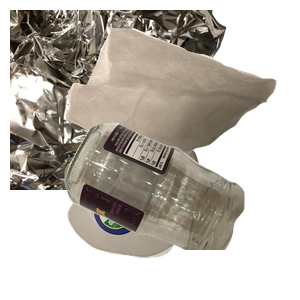glass: (62, 120, 300, 300)
metal: (10, 10, 229, 190)
plastic: (65, 123, 257, 300)
trash: (63, 21, 300, 172)
